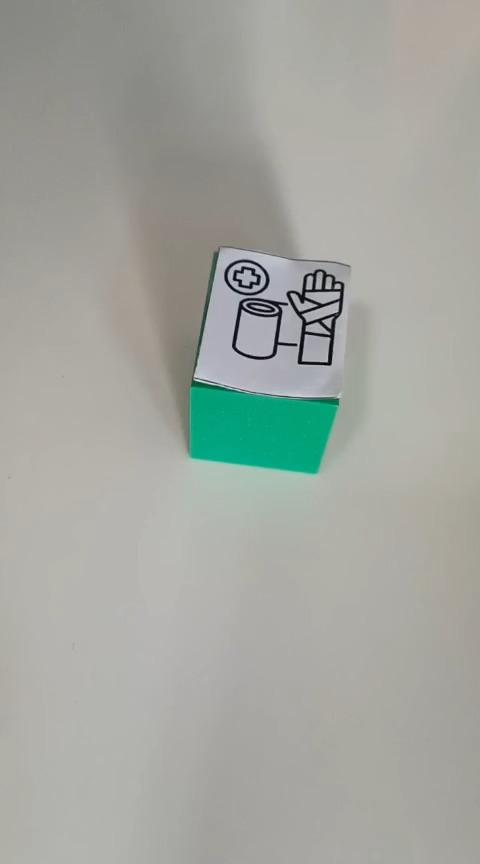Bandages: (187, 244, 351, 475)
